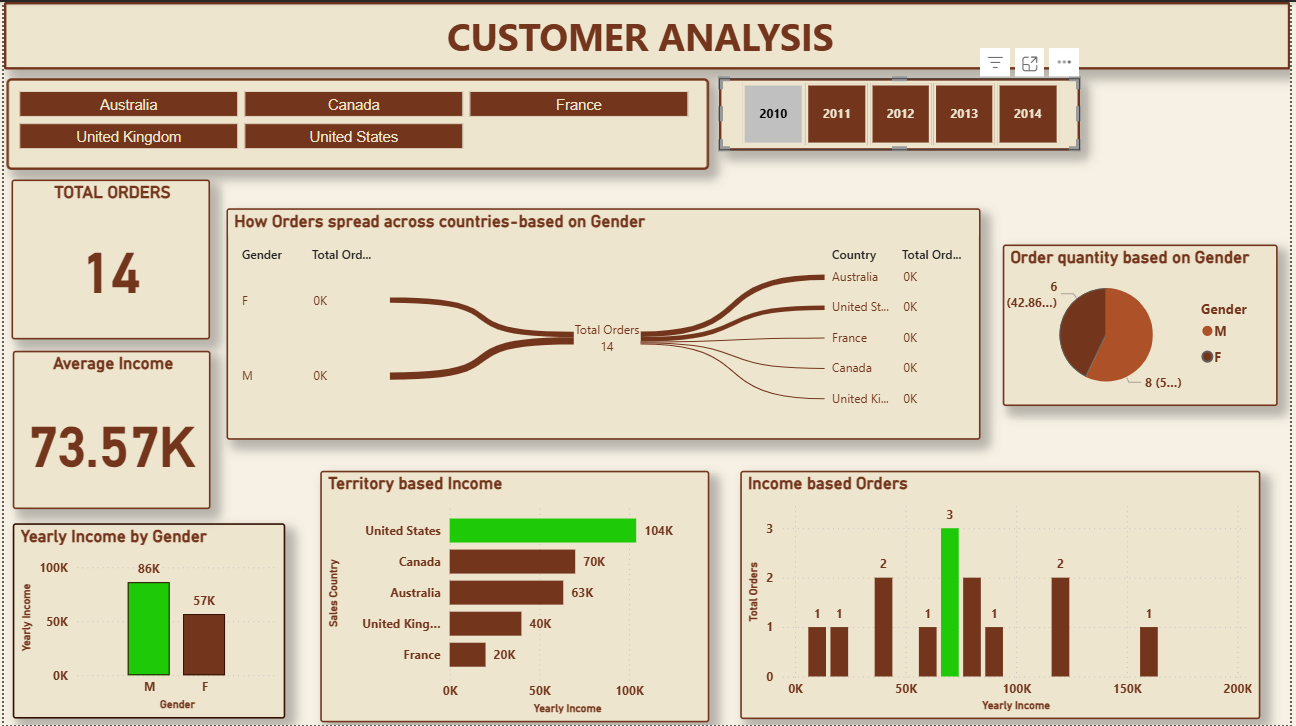

Layout of this report page (visuals, bound fields, positions):
{"tool":"powerbi","page":{"name":"CUSTOMER ANALYSIS","canvas":[1280,720],"ordinal":0},"visuals":[{"type":"pieChart","title":"Order quantity based on Gender","fields":{"Category":["vw_ftinternetsales.gender"],"Y":["CountNonNull(vw_ftinternetsales.orderquantity)"]},"box":[993.9,241.3,273.7,160.5],"z":0},{"type":"textbox","box":[0,0,1280.3,67.2],"z":1000},{"type":"slicer","title":"YEARS","fields":{"Values":["vw_ftinternetsales.calendaryear"]},"box":[711.5,75.9,359.5,72.1],"z":2000},{"type":"ChicletSlicer1448559807354","title":"COUNTRIES","fields":{"Category":["vw_ftinternetsales.salesterritorycountry"]},"box":[2.5,75.9,699.1,90.8],"z":3000},{"type":"clusteredColumnChart","title":"Yearly Income by Gender","fields":{"Category":["vw_ftinternetsales.gender"],"Y":["Avg(vw_ftinternetsales.yearlyincome)"]},"box":[8.7,518.7,271.2,194.1],"z":4000},{"type":"card","title":"TOTAL ORDERS","fields":{"Values":["DimProductCategory.total_orders"]},"box":[7.5,176.6,197.8,159.2],"z":5000},{"type":"clusteredColumnChart","title":"Income based Orders","fields":{"Category":["vw_ftinternetsales.yearlyincome"],"Y":["DimProductCategory.total_orders"]},"box":[732.7,466.5,517.5,247.5],"z":6000},{"type":"card","title":"Average Income","fields":{"Values":["measures (3).Income"]},"box":[8.7,347.1,196.5,158],"z":7000},{"type":"clusteredBarChart","title":"Territory based Income","fields":{"Category":["vw_ftinternetsales.salesterritorycountry"],"Y":["measures (3).Income"]},"box":[314.7,466.5,386.9,250],"z":8000},{"type":"BowtieChart1465021618681","title":"How Orders spread across countries-based on Gender","fields":{"Value":["DimProductCategory.total_orders"],"Destination":["vw_ftinternetsales.gender"],"Source":["vw_ftinternetsales.salesterritorycountry"]},"box":[221.4,205.3,750.1,230.1],"z":8001}]}

Visuals, with their boxes in screenshot pixels (x1, y1, x2, y2), scaled from the page's 1280x720 canvas onto the 1296x726 screenshot:
"Order quantity based on Gender" pieChart: box(1006, 243, 1283, 405)
textbox: box(0, 0, 1295, 68)
"YEARS" slicer: box(720, 77, 1084, 149)
"COUNTRIES" ChicletSlicer1448559807354: box(3, 77, 710, 168)
"Yearly Income by Gender" clusteredColumnChart: box(9, 523, 283, 719)
"TOTAL ORDERS" card: box(8, 178, 208, 339)
"Income based Orders" clusteredColumnChart: box(742, 470, 1266, 720)
"Average Income" card: box(9, 350, 208, 509)
"Territory based Income" clusteredBarChart: box(319, 470, 710, 722)
"How Orders spread across countries-based on Gender" BowtieChart1465021618681: box(224, 207, 984, 439)
